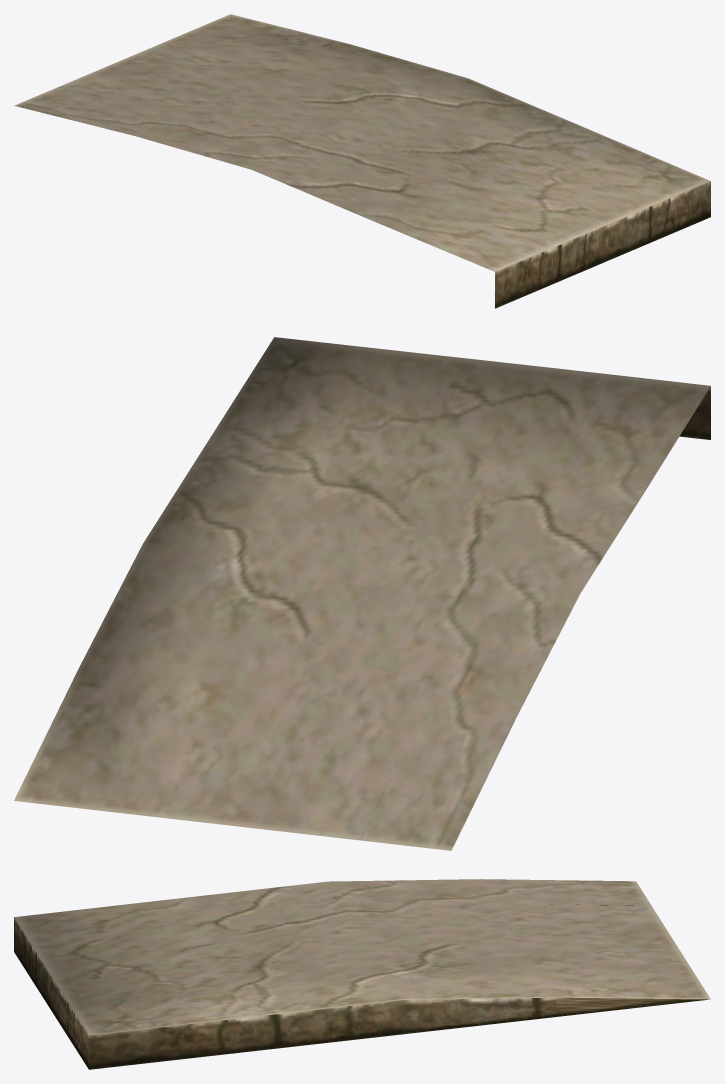
The model's file is HTOWN01_HANNA-PORCH.fbx.
3 views of the same model, one above another, from view 1: azimuth 30°, elevation 25°; view 2: azimuth 150°, elevation 25°; view 3: azimuth 270°, elevation 25° (orthographic). The views are drawn at different scales.
Parts seen in each view (by area): view 1: HTOWN01_HANNA-PORCH; view 2: HTOWN01_HANNA-PORCH; view 3: HTOWN01_HANNA-PORCH.
Part boxes in pixels (x1,y1,x2,y2): HTOWN01_HANNA-PORCH: (14, 14, 710, 308); HTOWN01_HANNA-PORCH: (14, 337, 710, 850); HTOWN01_HANNA-PORCH: (14, 879, 710, 1069).
Size of the model in its own units: 36740 by 3156 by 57307.
Materials: 2 (2 with a texture image).
